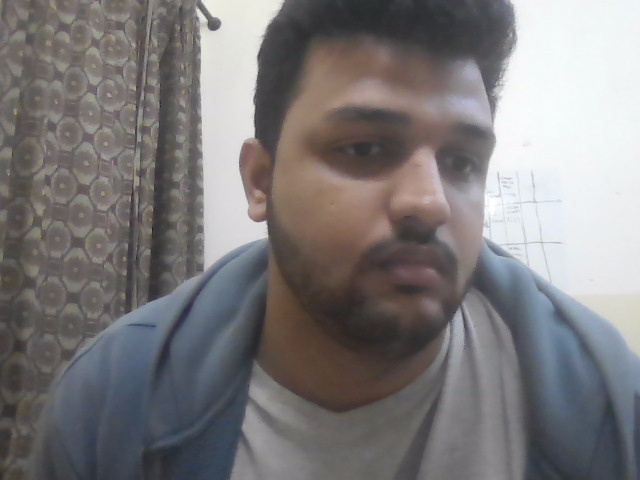awake: (201, 42, 569, 375)
